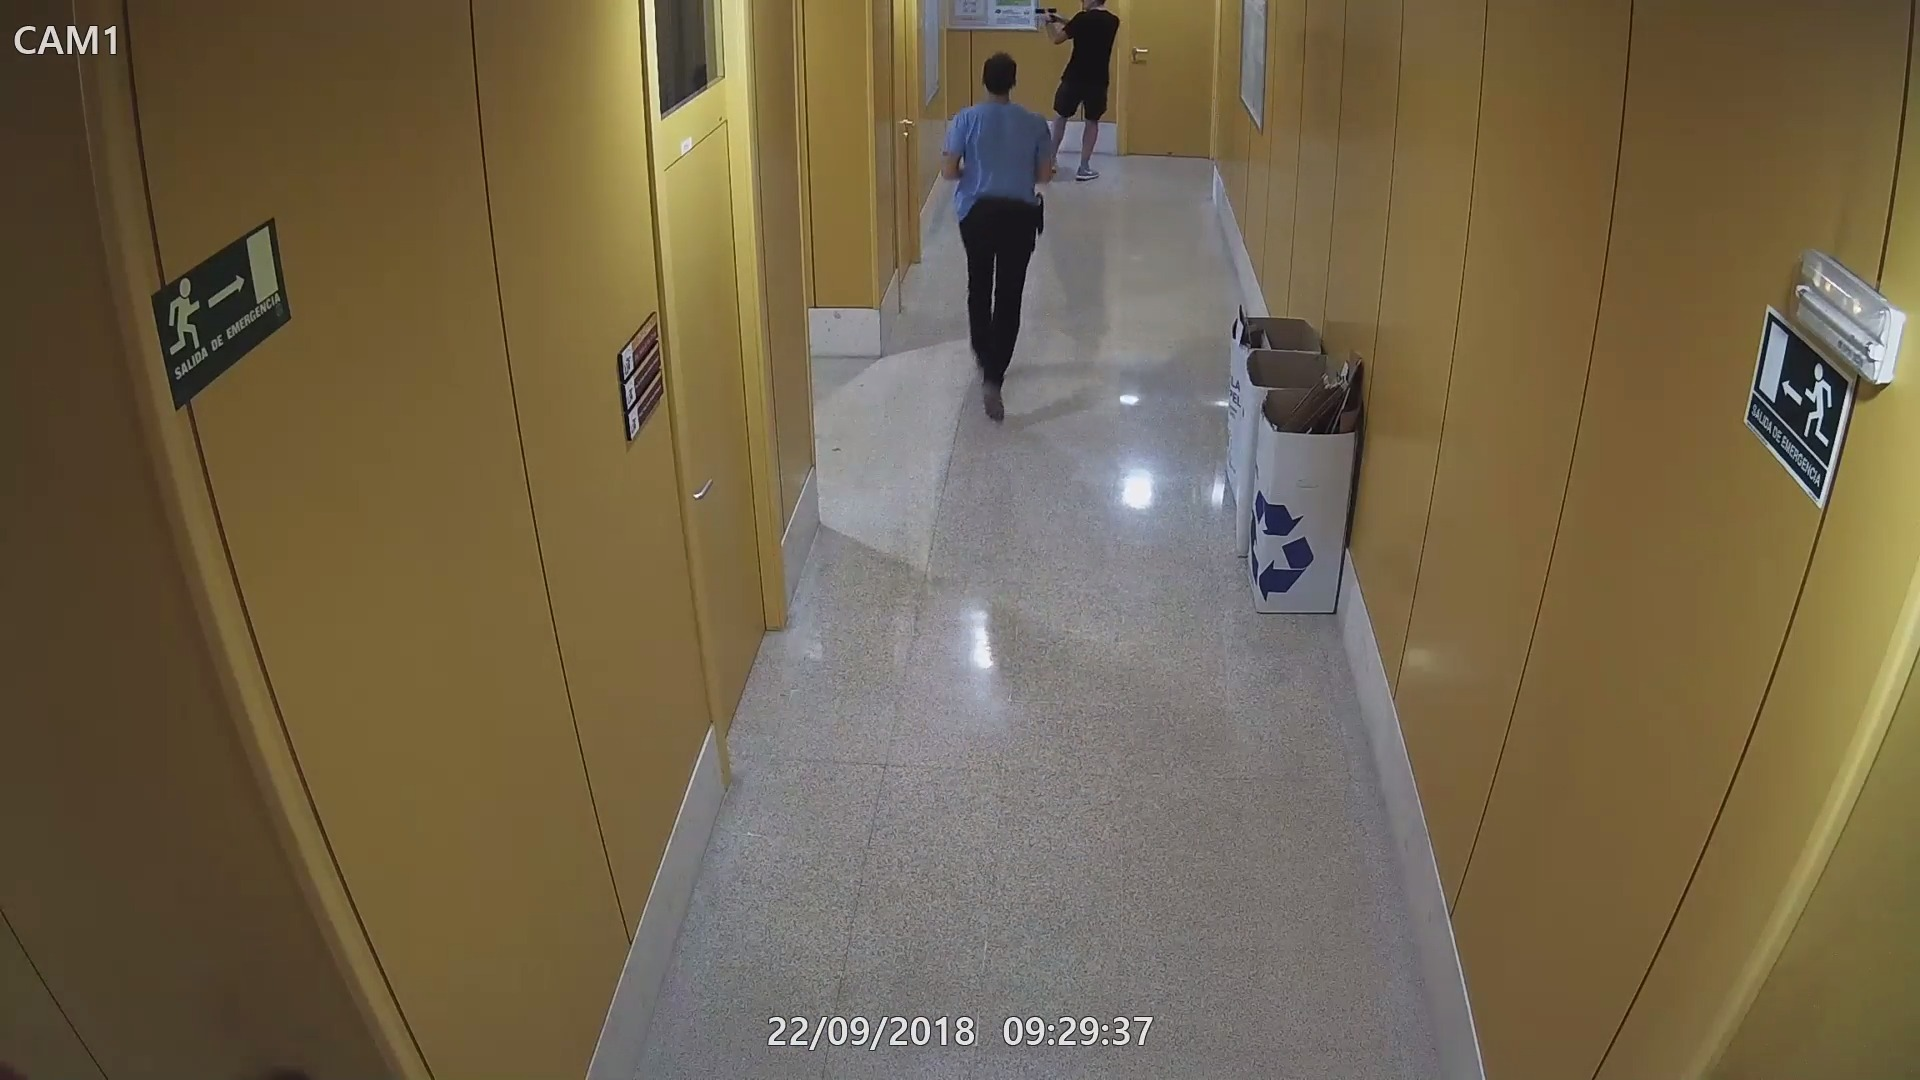Handgun: (1030, 3, 1059, 29)
